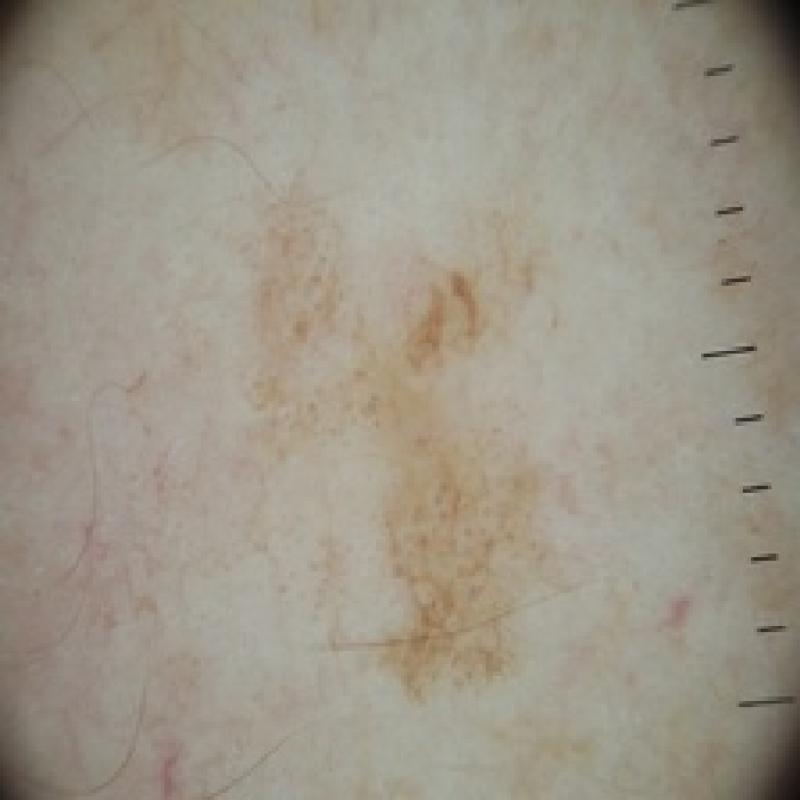malignant: (195, 171, 658, 717)
